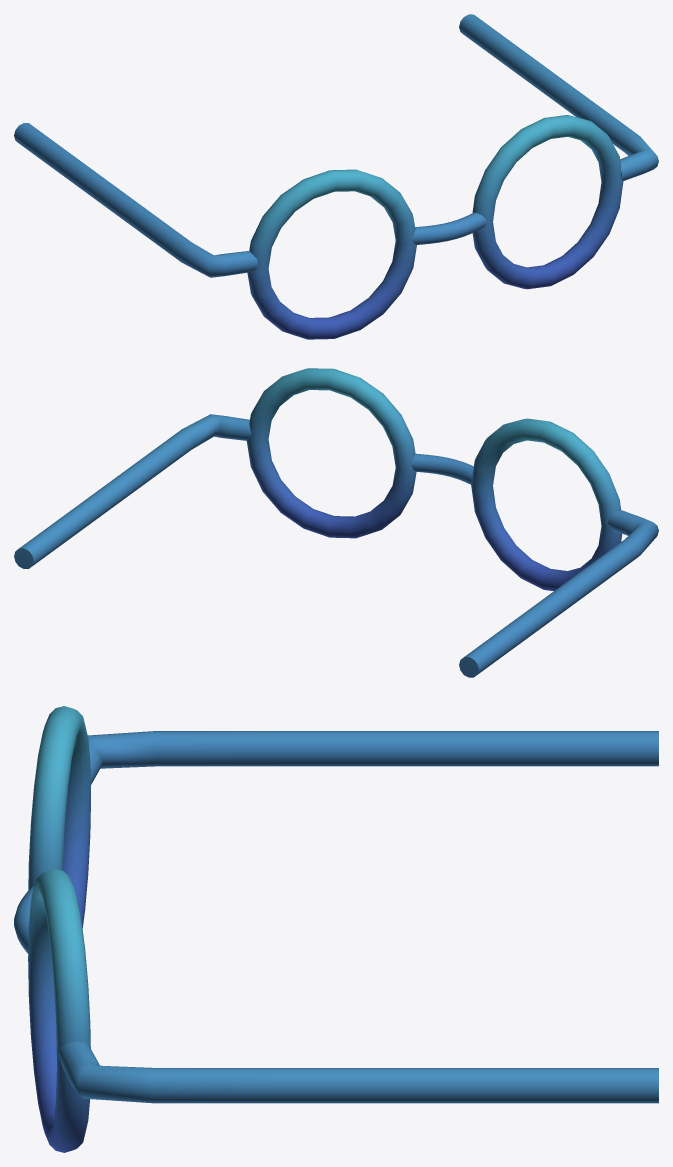
Rendered from glass6.fbx.
The picture shows the model from 3 angles, top to bottom: view 1: azimuth 30°, elevation 25°; view 2: azimuth 150°, elevation 25°; view 3: azimuth 270°, elevation 25°; orthographic projection. The views are drawn at different scales.
Visible parts, largest first — view 1: NurbsPath.013; view 2: NurbsPath.013; view 3: NurbsPath.013.
Part boxes in pixels (box(x1,y1,x2,y2)): NurbsPath.013: box(14, 14, 658, 339); NurbsPath.013: box(14, 368, 658, 677); NurbsPath.013: box(14, 706, 658, 1152).
Bounding box in the file's own units: 183 × 236 × 81.02.
